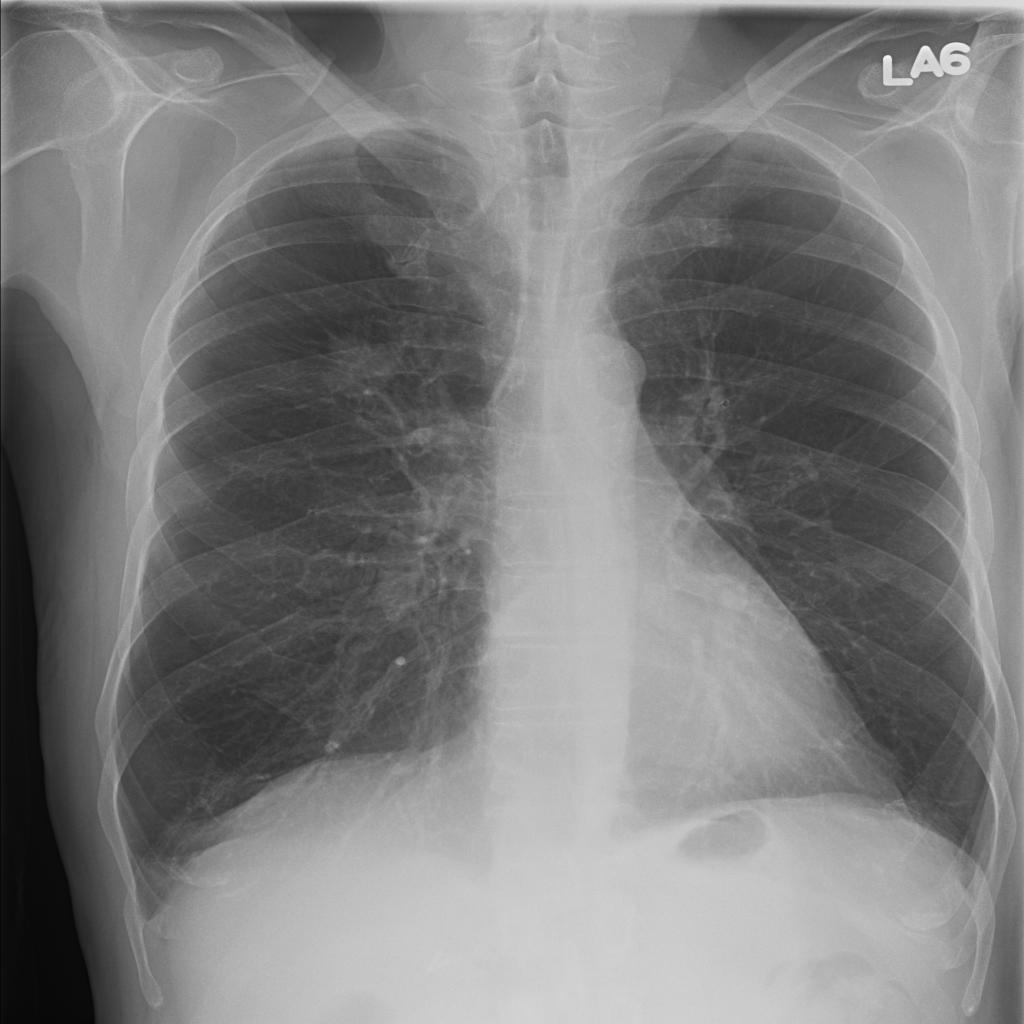Nodule: (190, 167, 248, 212)
